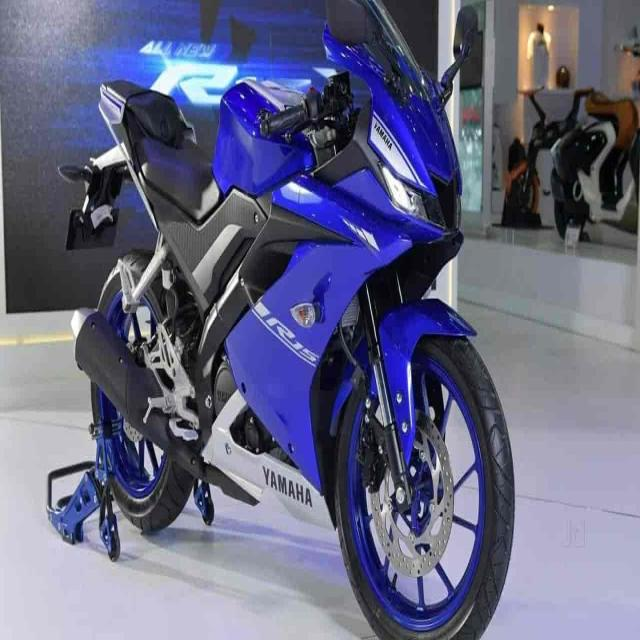bike: (58, 2, 527, 640)
